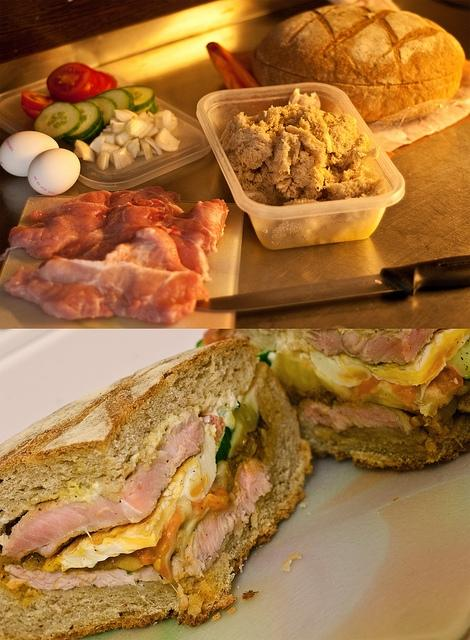cucumber: (33, 102, 82, 140), (64, 102, 100, 140), (62, 114, 104, 146), (93, 88, 135, 112), (84, 96, 117, 126), (117, 86, 154, 112), (215, 426, 232, 464), (256, 350, 273, 368), (136, 102, 158, 115)
onion: (154, 127, 180, 151), (100, 142, 122, 166), (113, 147, 135, 170), (74, 140, 96, 162), (144, 136, 164, 156), (138, 139, 154, 160), (115, 130, 134, 146), (96, 150, 110, 171), (90, 136, 106, 154), (114, 110, 134, 122), (128, 138, 140, 158), (100, 132, 117, 145), (132, 122, 145, 136), (162, 110, 172, 128), (112, 122, 125, 133), (146, 126, 158, 137), (120, 139, 133, 148), (154, 118, 162, 132), (73, 147, 82, 158), (136, 148, 146, 156), (110, 118, 123, 124), (102, 128, 112, 134), (142, 114, 148, 120), (148, 112, 154, 118)
tomato: (46, 62, 91, 98), (21, 90, 58, 111), (21, 102, 41, 120), (94, 72, 109, 96), (105, 74, 118, 92)
